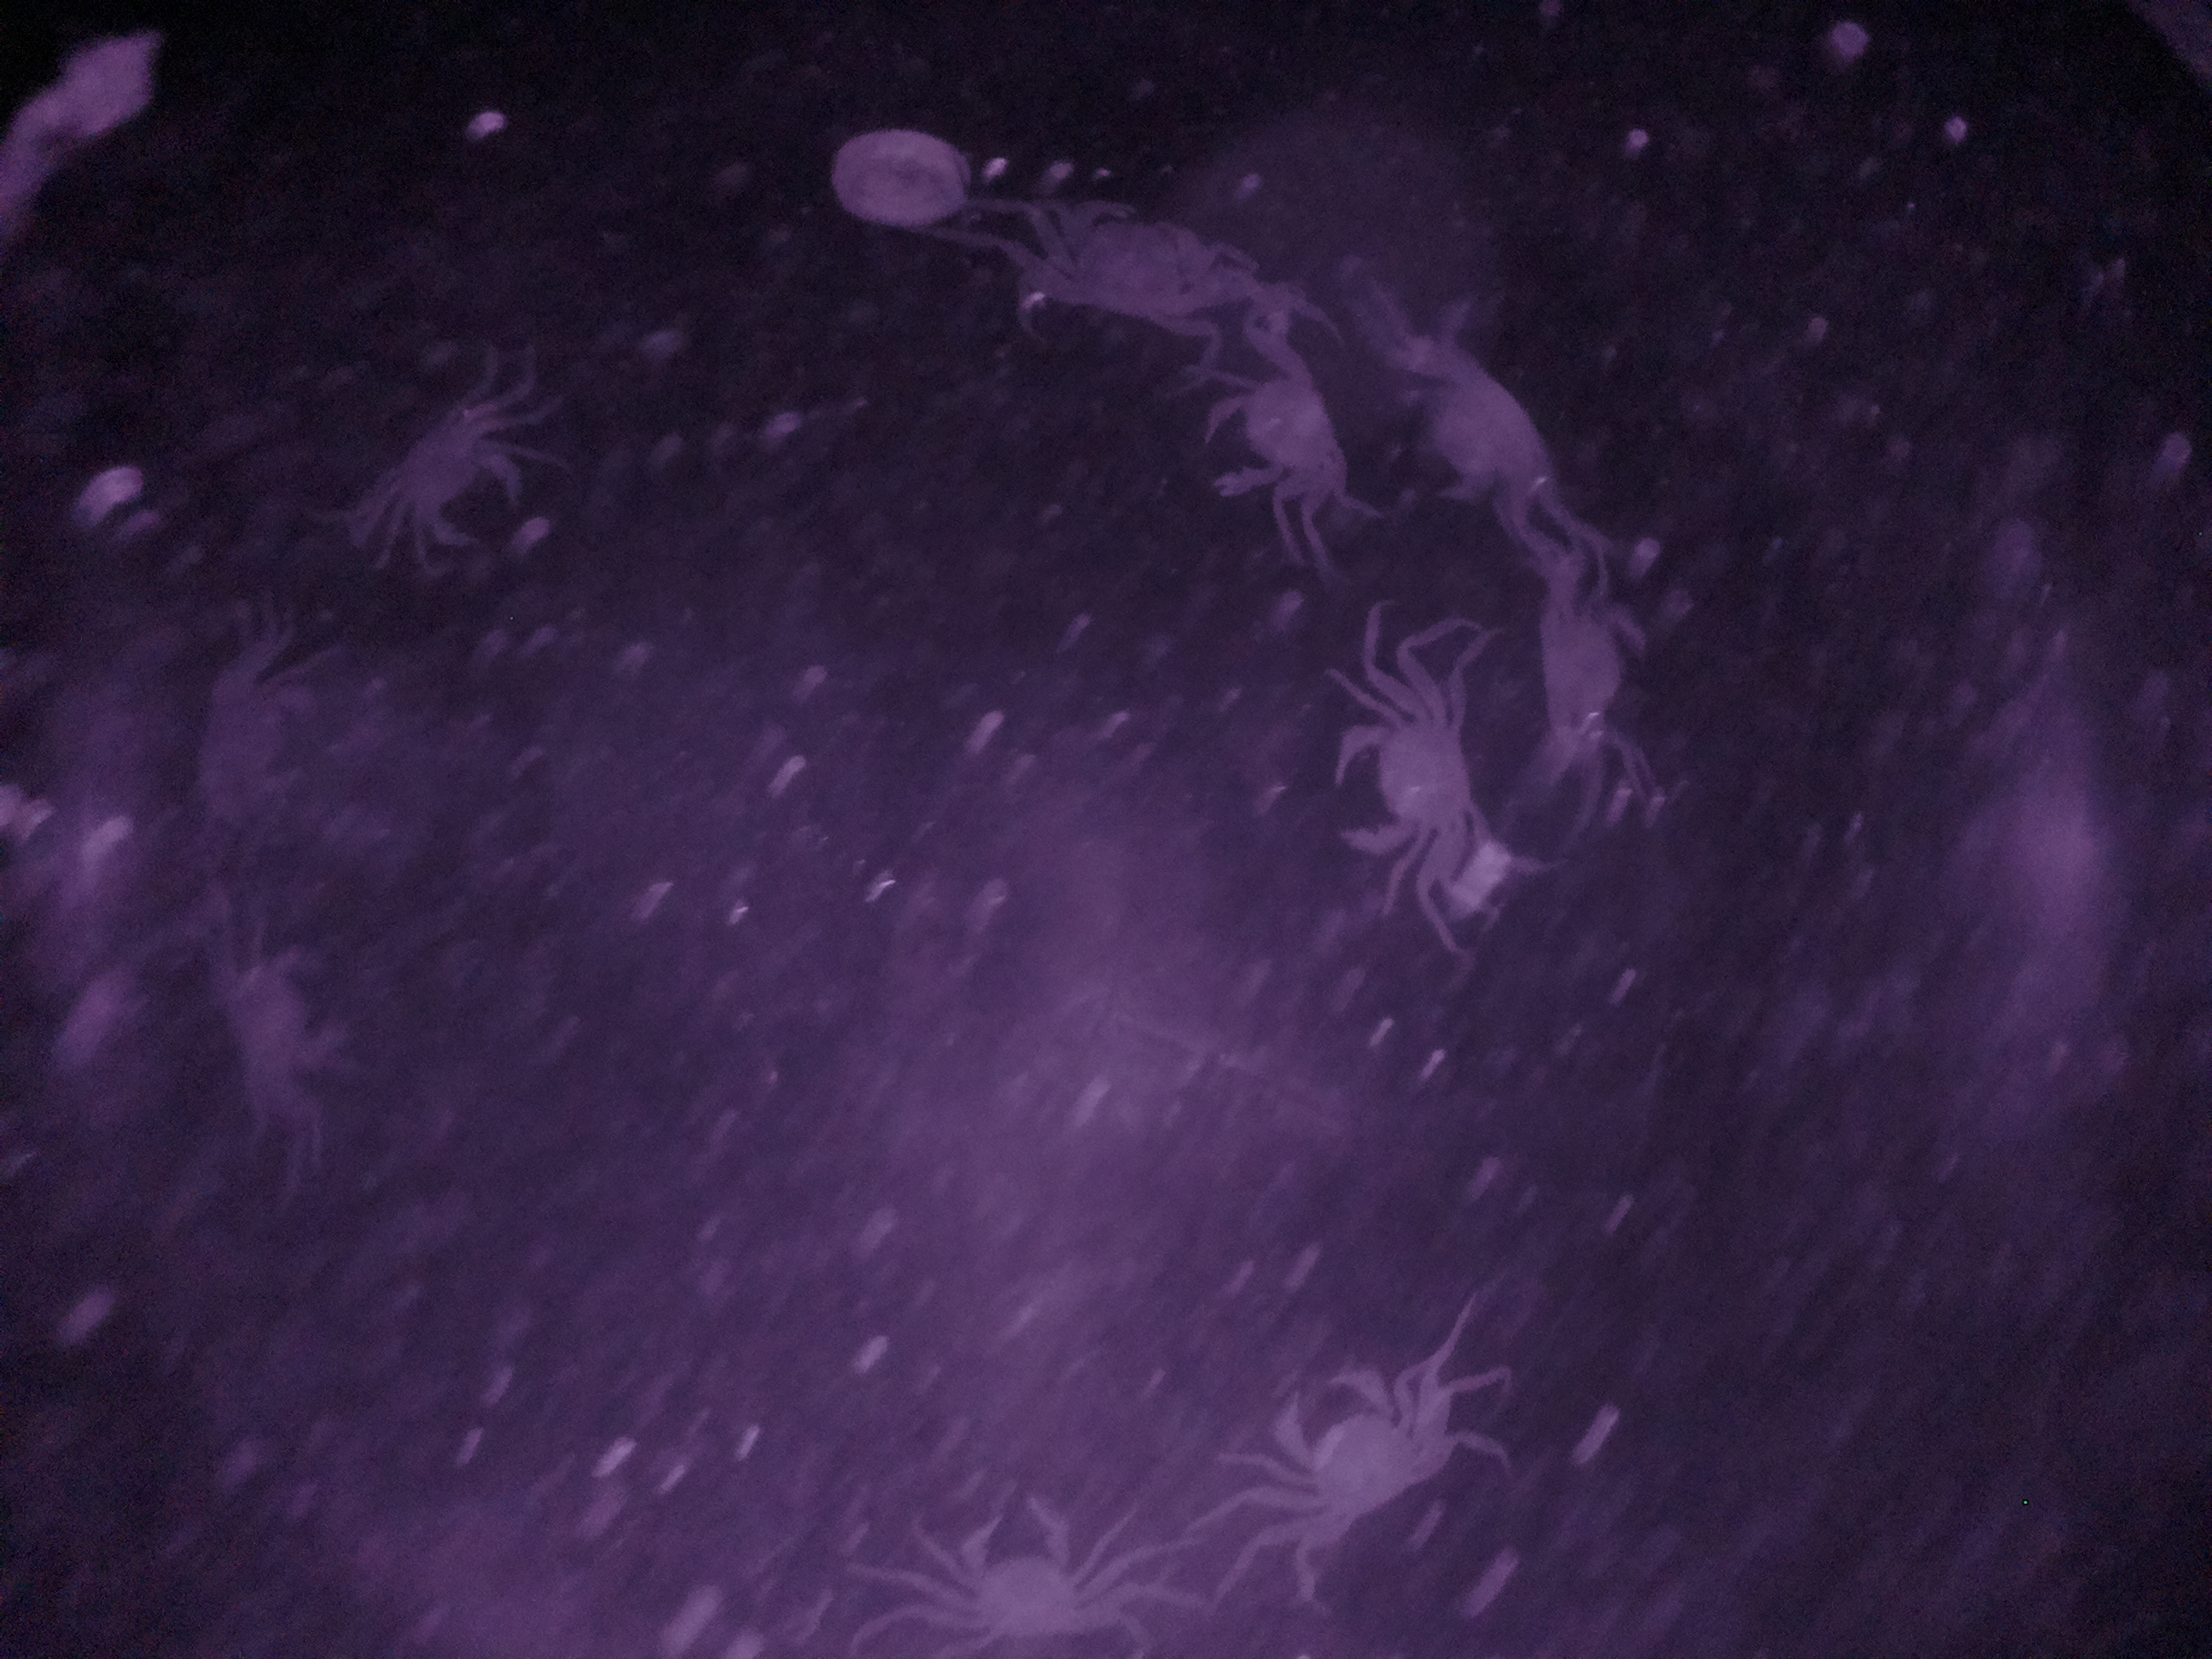Crab: (1223, 1338, 1460, 1554), (989, 188, 1247, 345), (1312, 681, 1496, 887), (923, 1485, 1137, 1649), (1204, 359, 1402, 525)
